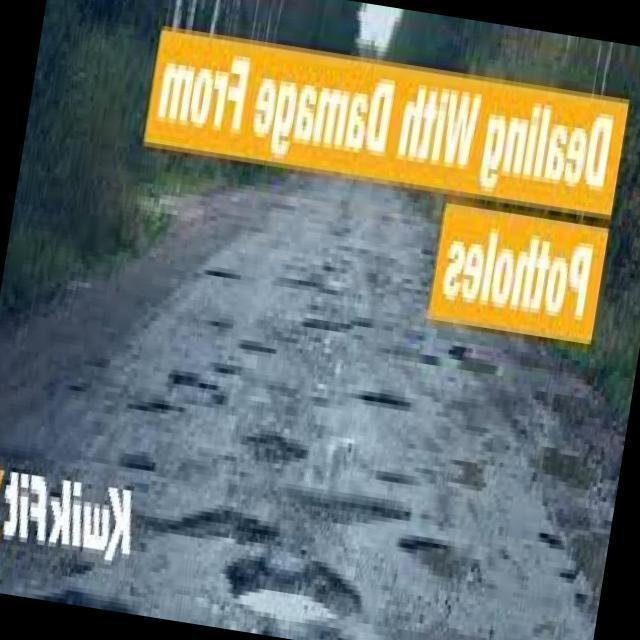pothole: (225, 552, 361, 622), (145, 508, 279, 544), (286, 485, 411, 522), (399, 535, 458, 577), (242, 431, 309, 462), (0, 448, 48, 474), (356, 391, 411, 409), (169, 371, 218, 389), (120, 452, 155, 471), (128, 401, 185, 412), (302, 319, 352, 331), (459, 358, 496, 374), (239, 340, 276, 353), (274, 278, 322, 288), (2, 627, 130, 630), (205, 271, 240, 279), (212, 364, 239, 374), (134, 624, 180, 629), (209, 320, 234, 328), (222, 634, 260, 639), (2, 616, 49, 620), (22, 635, 51, 640), (92, 635, 121, 639), (142, 635, 161, 639)
